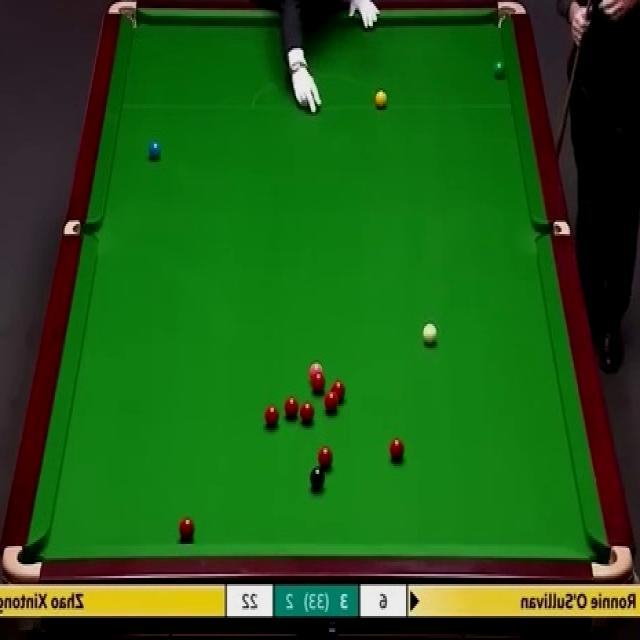pocket: (588, 543, 635, 582), (3, 543, 45, 582), (108, 0, 140, 32), (494, 0, 528, 29), (63, 218, 100, 237), (538, 220, 572, 235)
